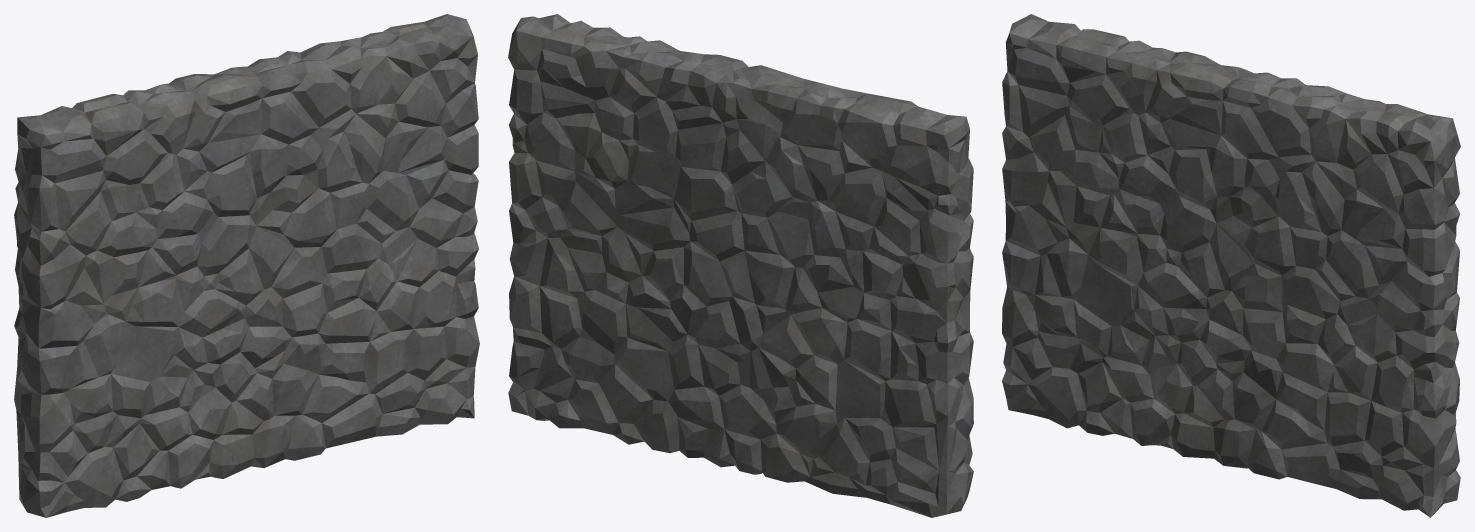
The model's file is stone_wall.fbx.
3 views of the same model, side by side, from view 1: azimuth 30°, elevation 25°; view 2: azimuth 150°, elevation 25°; view 3: azimuth 330°, elevation 25° (orthographic).
Visible parts, largest first — view 1: Support; view 2: Support; view 3: Support.
Part boxes in pixels (x1,y1,x2,y2): Support: [14, 14, 479, 517]; Support: [508, 14, 973, 517]; Support: [1002, 14, 1460, 517].
Bounding box in the file's own units: 380 × 321 × 48.22.
Materials: 1 (1 with a texture image).
